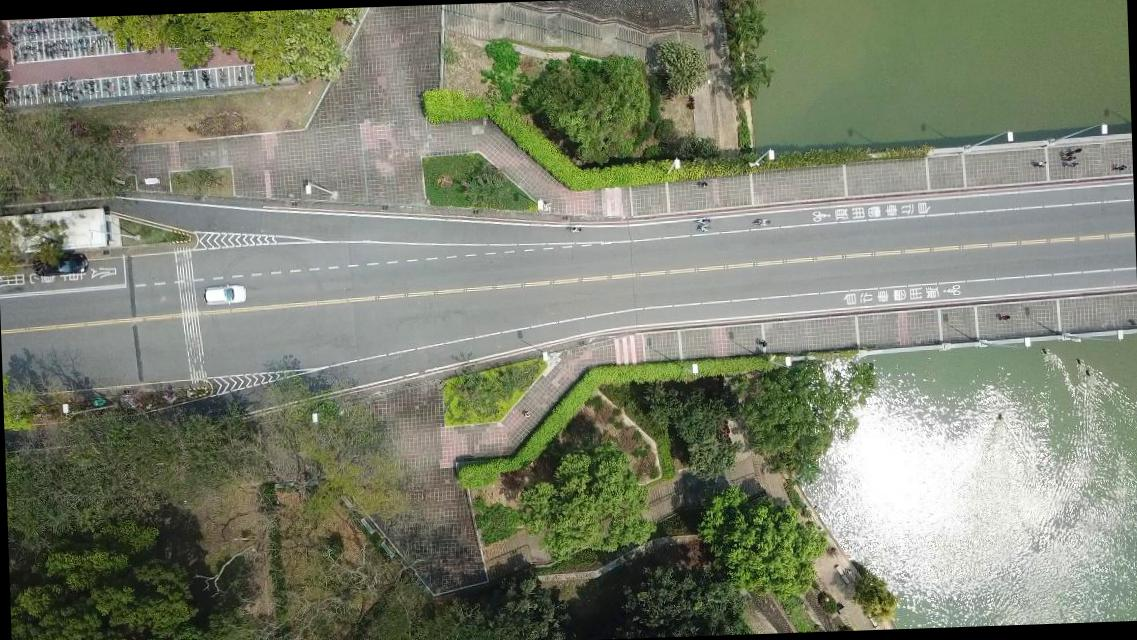vehicle: (32, 252, 90, 276), (203, 282, 246, 306)
